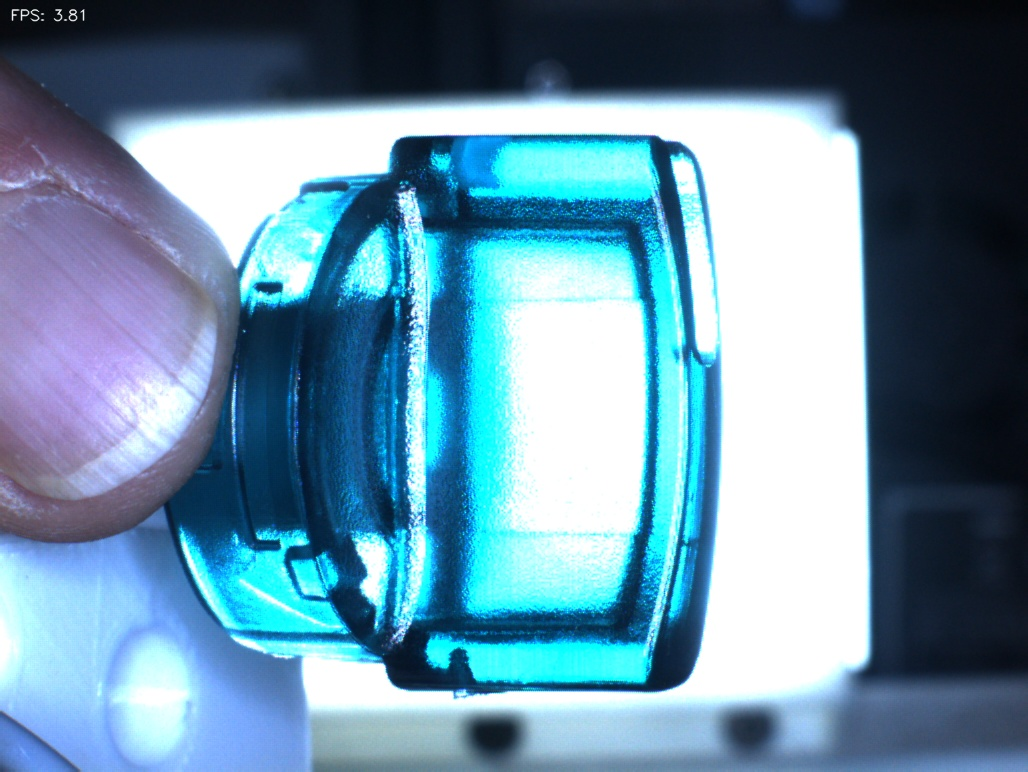Bulle: (424, 612, 508, 706)
